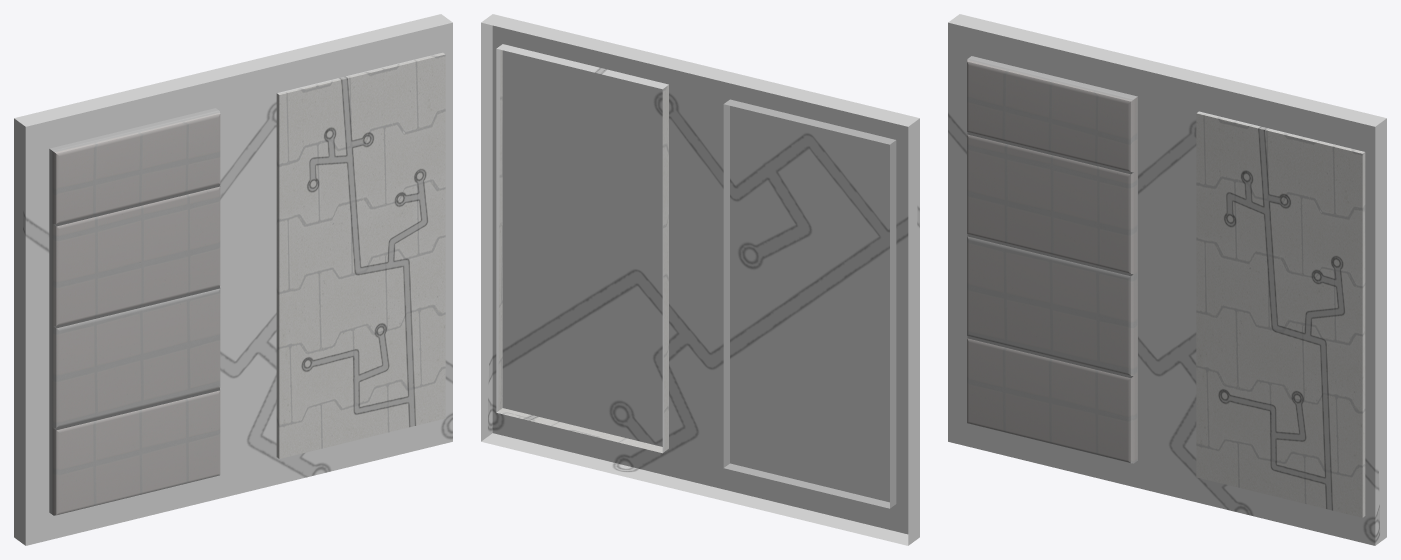
The model's file is Wall2.fbx.
3 renders of one model, left to right at view 1: azimuth 30°, elevation 25°; view 2: azimuth 150°, elevation 25°; view 3: azimuth 330°, elevation 25°, orthographic.
Parts seen in each view (by area): view 1: polySurface4; view 2: polySurface4; view 3: polySurface4.
Part boxes in pixels (bbox=[...]): polySurface4: bbox=[14, 14, 452, 545]; polySurface4: bbox=[481, 14, 919, 545]; polySurface4: bbox=[948, 14, 1386, 545].
Size of the model in its own units: 8 by 7.5 by 0.5892.
Materials: 1 (1 with a texture image).
